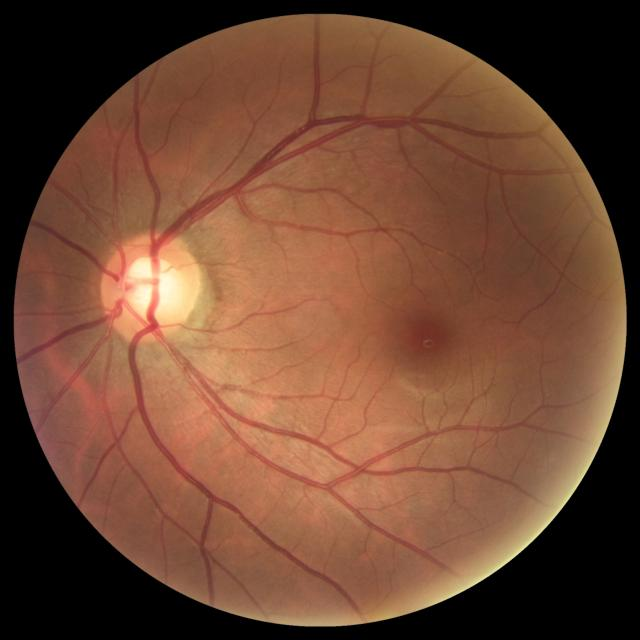OC: (122, 257, 178, 317)
OD: (99, 233, 202, 339)
